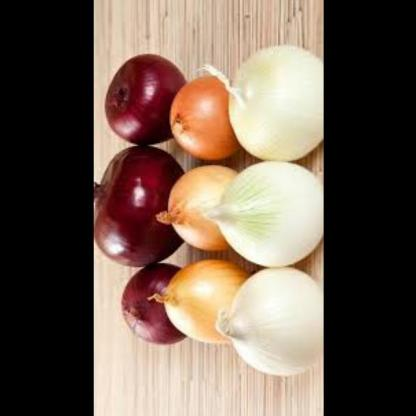onion: (216, 262, 322, 388), (206, 165, 322, 269), (92, 142, 188, 266), (228, 41, 322, 162), (152, 260, 249, 362), (99, 46, 184, 150), (156, 161, 237, 259), (112, 262, 189, 351), (165, 72, 241, 162)
